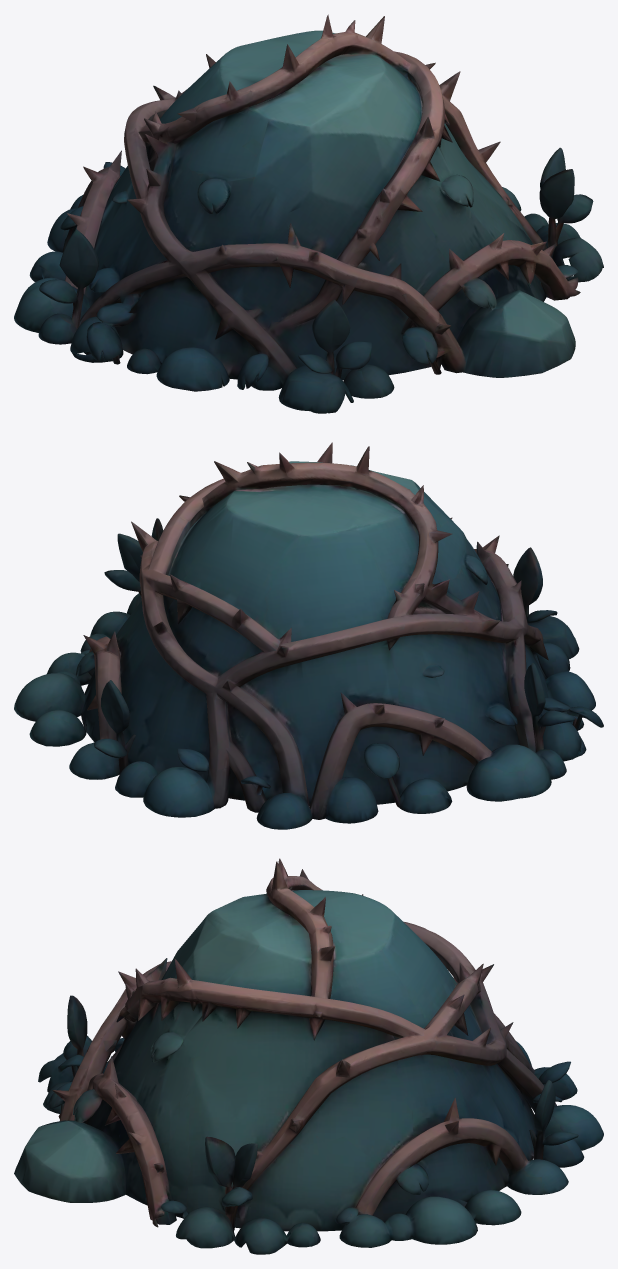
The model's file is vinemound.opt.glb.
The picture shows the model from 3 angles, top to bottom: view 1: azimuth 30°, elevation 25°; view 2: azimuth 150°, elevation 25°; view 3: azimuth 270°, elevation 25°; orthographic projection. The views are drawn at different scales.
Visible parts, largest first — view 1: node_0; view 2: node_0; view 3: node_0.
Boxes of the visible parts, box(x1,y1,x2,y2) form: node_0: box(14, 14, 603, 413); node_0: box(14, 442, 603, 829); node_0: box(14, 858, 603, 1254).
Bounding box in the file's own units: 1.01 × 0.4936 × 1.02.
Materials: 1 (1 with a texture image).
